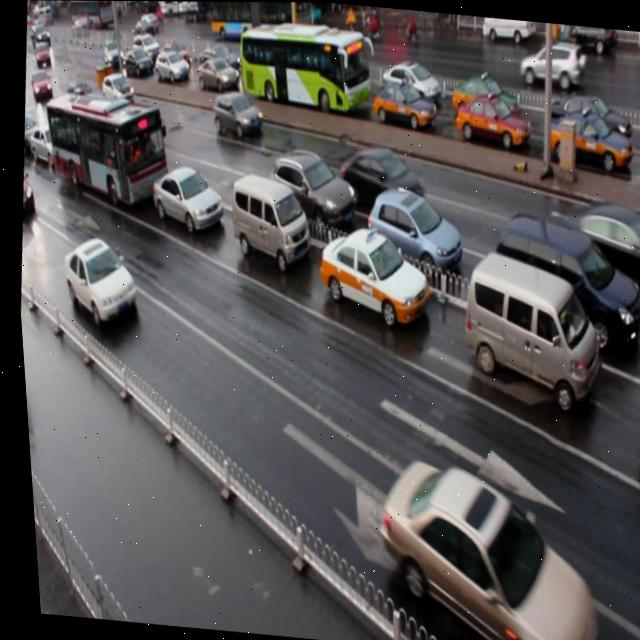car: (356, 452, 604, 640), (308, 220, 431, 328), (357, 189, 464, 286), (545, 192, 640, 298), (54, 233, 139, 331), (263, 147, 357, 230), (332, 143, 427, 225), (542, 106, 634, 175), (143, 161, 224, 235), (451, 89, 532, 149), (538, 89, 623, 144), (448, 72, 523, 126), (366, 76, 437, 132), (374, 58, 440, 107), (210, 92, 263, 141), (24, 120, 70, 171), (77, 97, 119, 139), (193, 56, 240, 93), (260, 48, 303, 87), (97, 71, 135, 111), (201, 42, 245, 75), (152, 48, 190, 86), (16, 159, 37, 224), (629, 358, 640, 470), (130, 31, 163, 64), (121, 47, 153, 78), (19, 114, 42, 156), (157, 37, 188, 68), (65, 80, 95, 109), (634, 107, 640, 155)
truck: (449, 246, 605, 414), (482, 208, 640, 357), (220, 169, 313, 273)
van: (36, 88, 174, 212), (229, 17, 371, 115)
